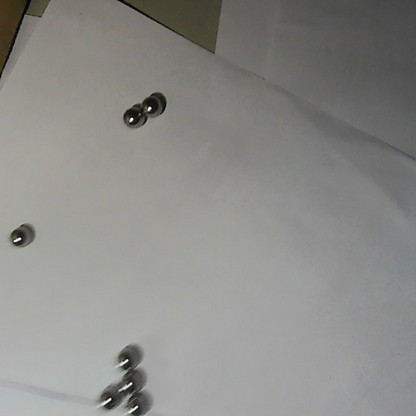ironball: (116, 101, 148, 131), (93, 380, 124, 410), (138, 91, 168, 120), (126, 389, 155, 416), (113, 344, 143, 370), (3, 224, 33, 248), (115, 368, 144, 392)
